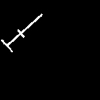double_crochet: (1, 14, 41, 51)
